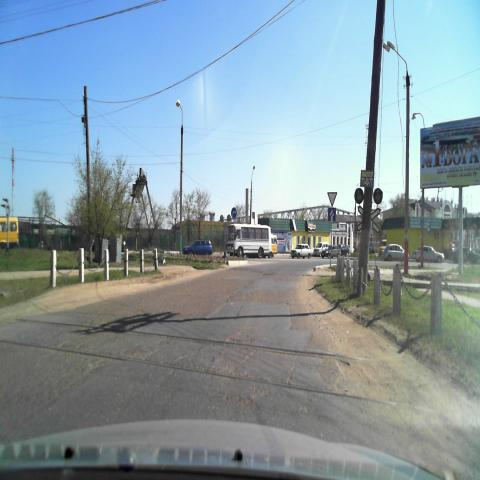5_6: (328, 208, 336, 222)
